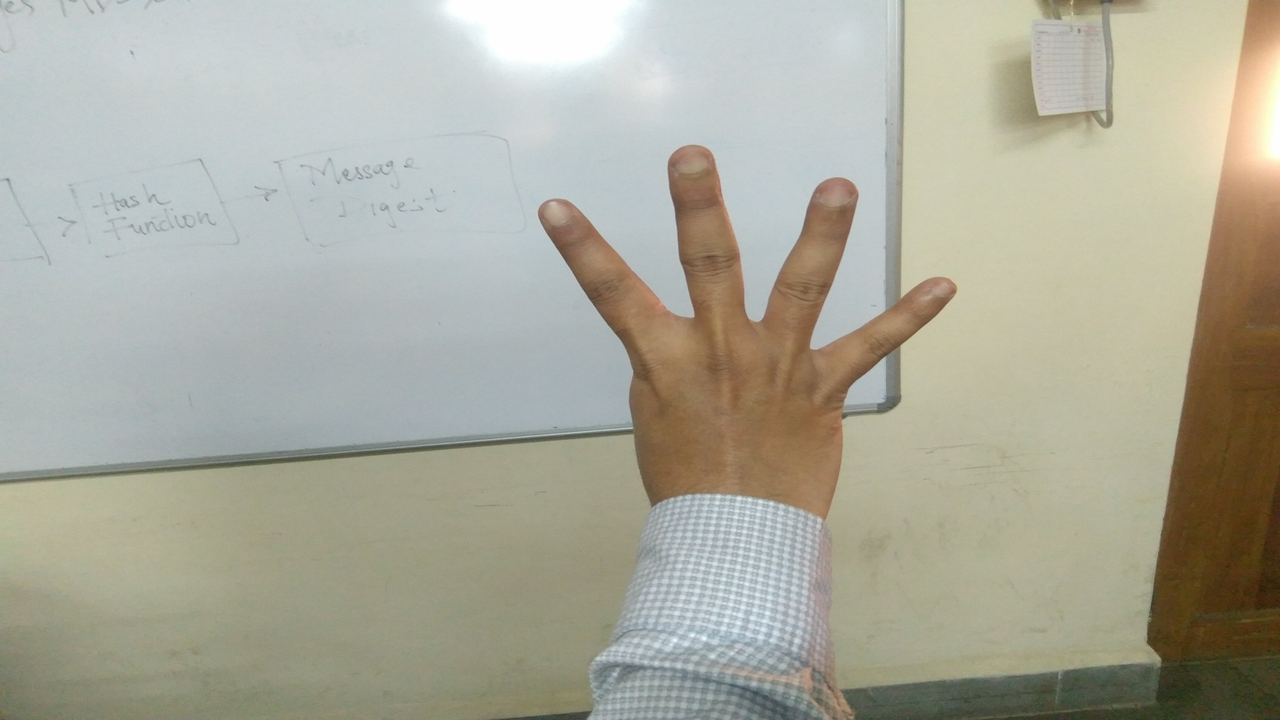fingertip: (530, 184, 596, 238), (798, 168, 866, 220), (664, 140, 728, 194), (902, 266, 968, 314)
